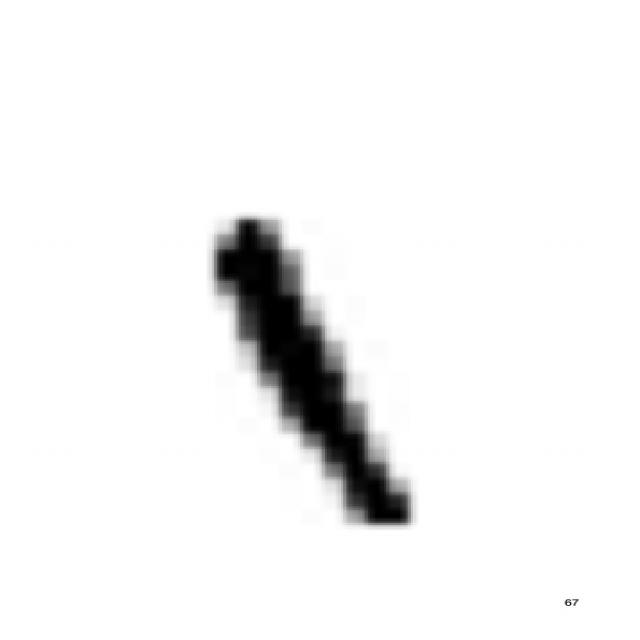1 -one-: (193, 200, 432, 538)
